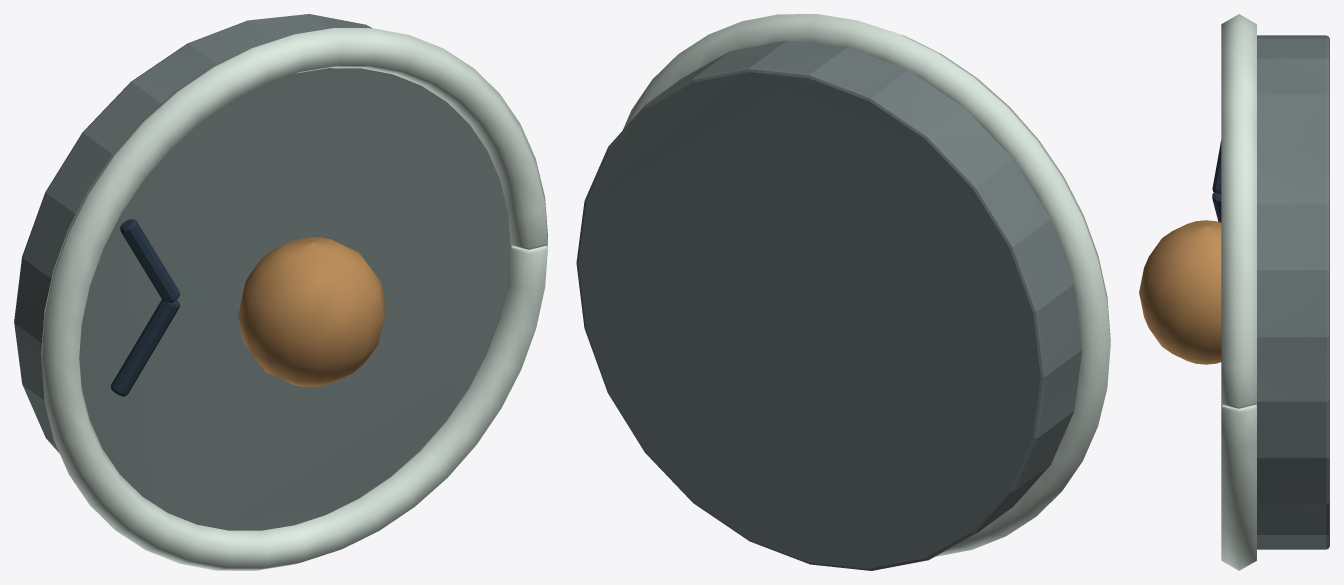
Rendered from item_012.glb.
The picture shows the model from 3 angles, left to right: view 1: azimuth 30°, elevation 25°; view 2: azimuth 150°, elevation 25°; view 3: azimuth 270°, elevation 25°; orthographic projection. The views are drawn at different scales.
Visible parts, largest first — view 1: Item_012_pot_lid; view 2: Item_012_pot_lid; view 3: Item_012_pot_lid.
Part boxes in pixels (x1=…): Item_012_pot_lid: x1=14, y1=14, x2=547, y2=570; Item_012_pot_lid: x1=576, y1=14, x2=1110, y2=570; Item_012_pot_lid: x1=1139, y1=14, x2=1329, y2=570.
Bounding box in the file's own units: 0.5397 × 0.54 × 0.185.
